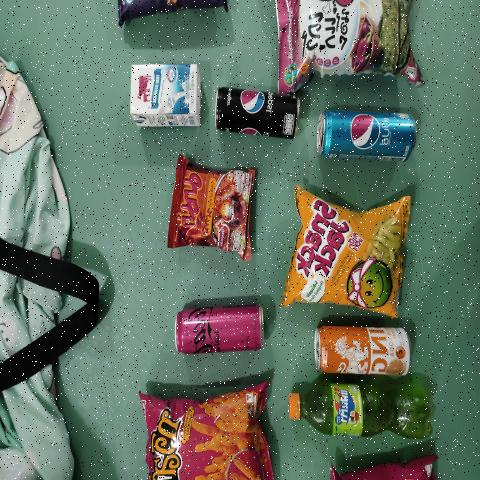coke_red: (172, 298, 272, 358)
fanta_green: (289, 380, 436, 446)
mama: (174, 178, 252, 246)
pepsi_black: (214, 88, 300, 144)
pepsi_blue: (318, 118, 412, 157)
singha_yellow: (315, 325, 408, 372)
snack_jack: (293, 200, 405, 308)
taokaenoi: (274, 1, 426, 73)
thai_denmark: (126, 61, 207, 128)
twisco: (148, 384, 270, 480)
